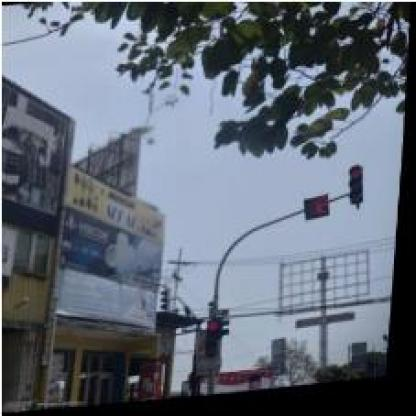red: (349, 170, 369, 211), (209, 324, 223, 361)
